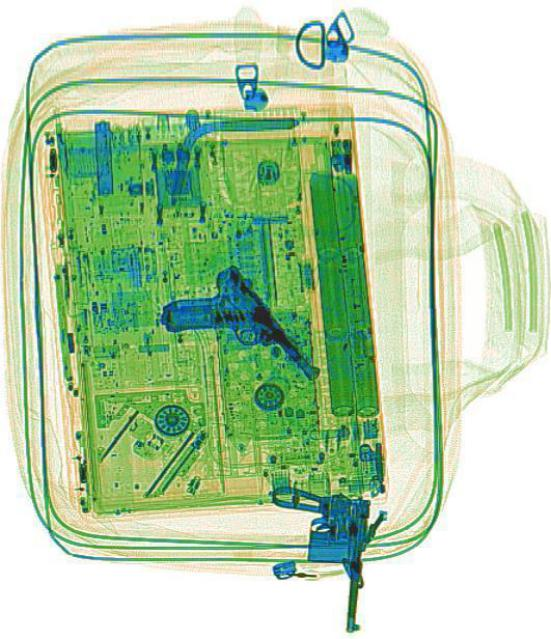Gun: (153, 249, 322, 432), (254, 480, 371, 634)
